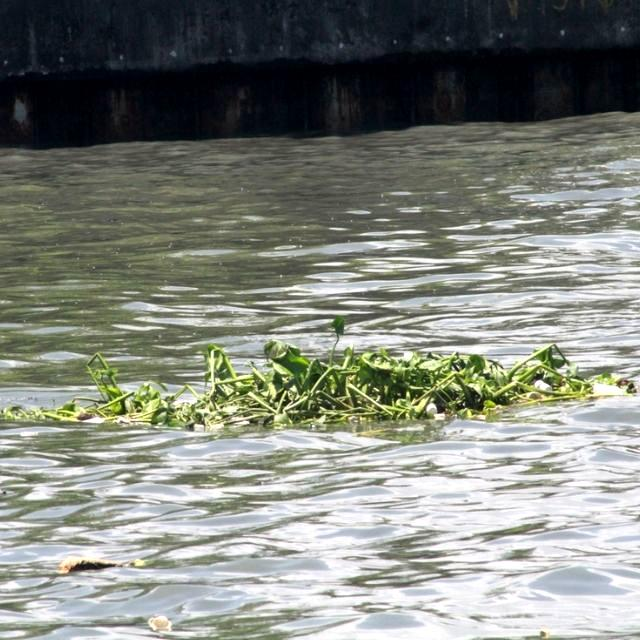water-hyacinth: (21, 337, 640, 420)
